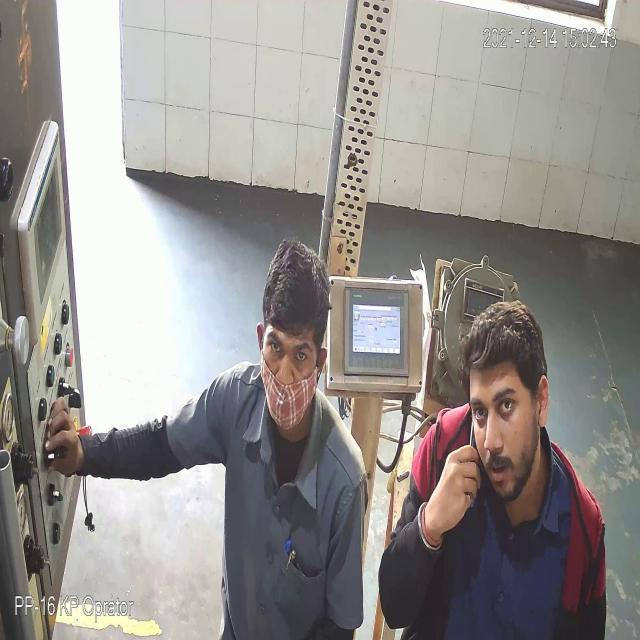face_mask: (261, 335, 316, 431)
face_nomask: (467, 392, 537, 491)
hand_noglove: (431, 443, 485, 521), (42, 396, 90, 481)
head_nohelmet: (461, 295, 544, 383), (258, 247, 334, 334)
person: (379, 291, 621, 640), (208, 239, 363, 640)
